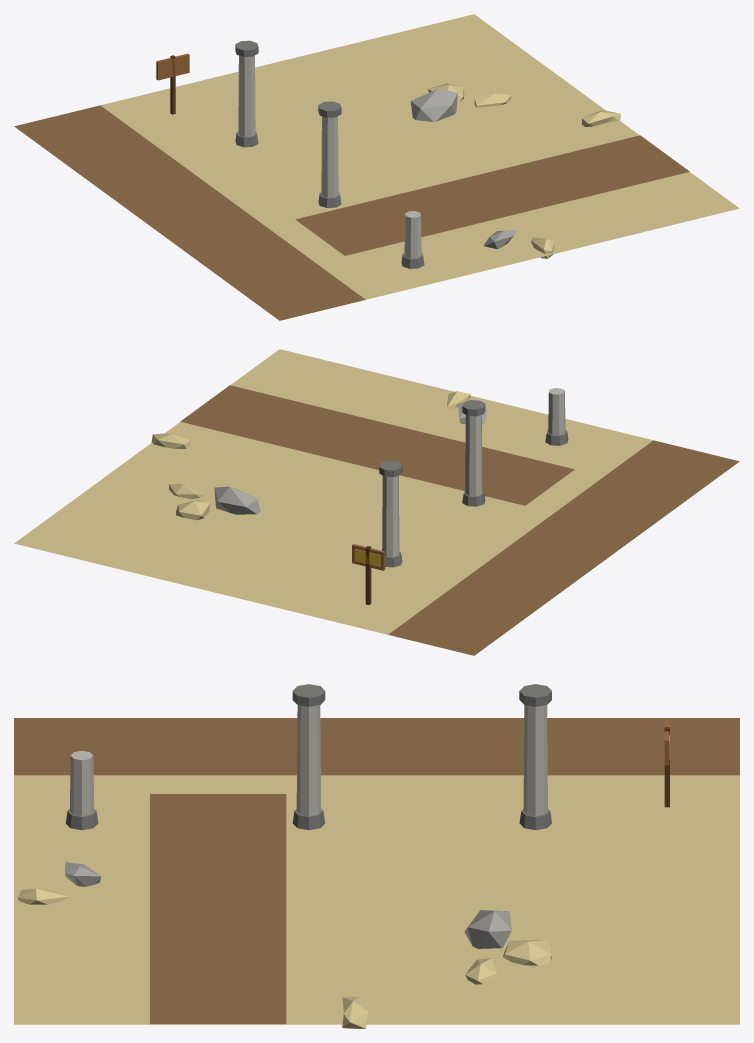
File: chunk_6_20.glb
3 renders of one model, top to bottom at view 1: azimuth 30°, elevation 25°; view 2: azimuth 150°, elevation 25°; view 3: azimuth 270°, elevation 25°, orthographic. The views are drawn at different scales.
Visible parts, largest first — view 1: chunk_6_20; view 2: chunk_6_20; view 3: chunk_6_20.
Part boxes in pixels (<box>): chunk_6_20: <box>14,14,739,320</box>; chunk_6_20: <box>14,349,739,655</box>; chunk_6_20: <box>14,684,739,1028</box>.
Size of the model in its own units: 16.14 by 3.63 by 16.
